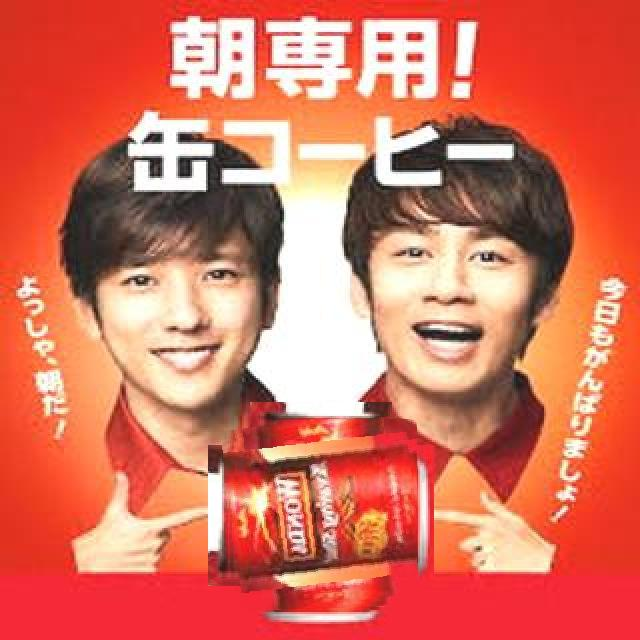recyclable: (225, 419, 417, 611)
